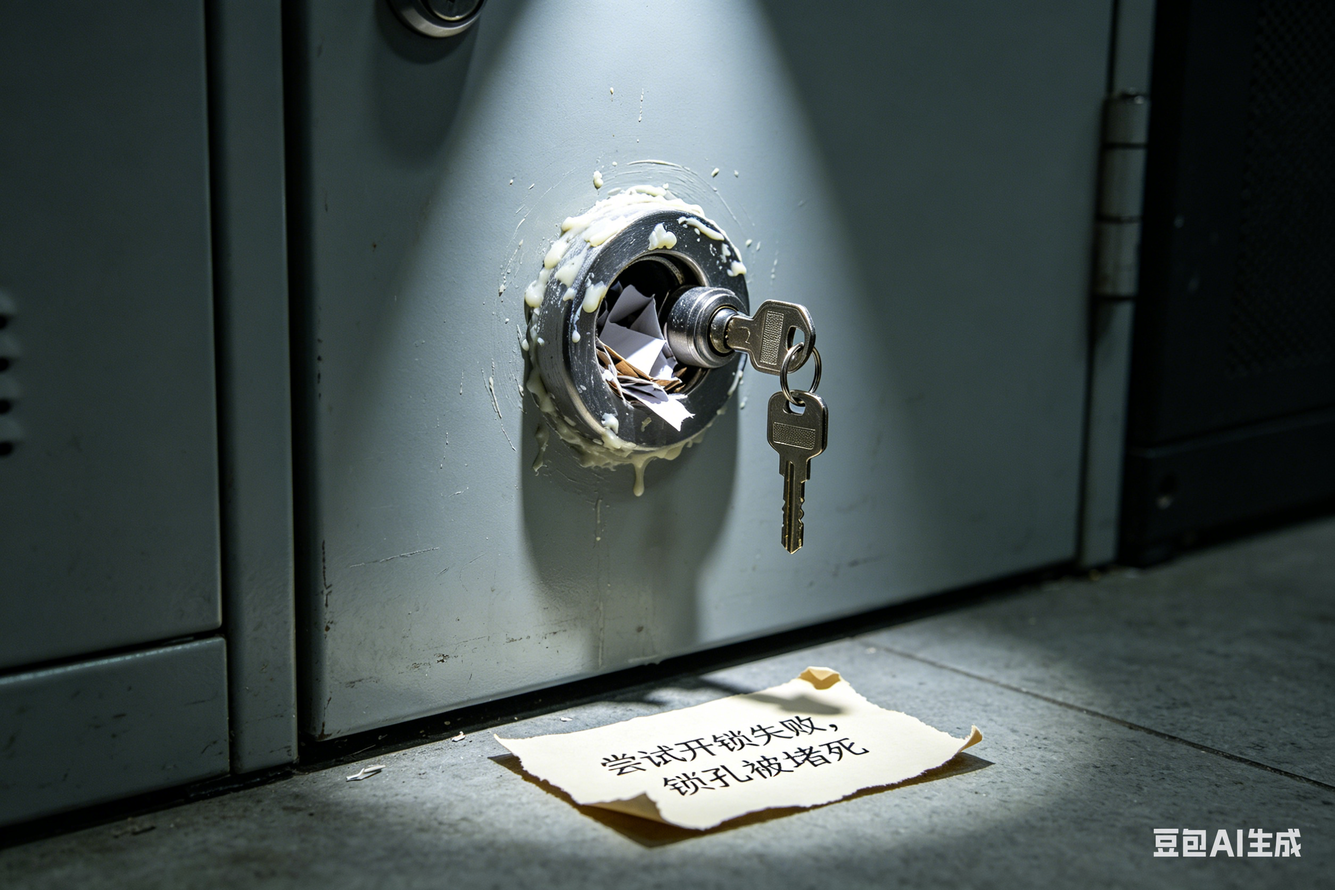BadLock: (574, 238, 760, 397)
